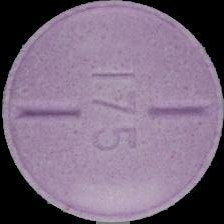69189-7070: (0, 0, 224, 224)
